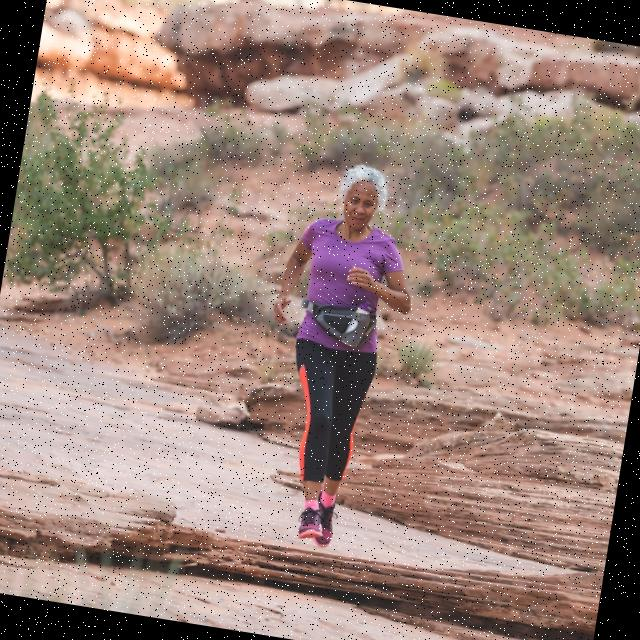Person: (240, 156, 432, 556)
